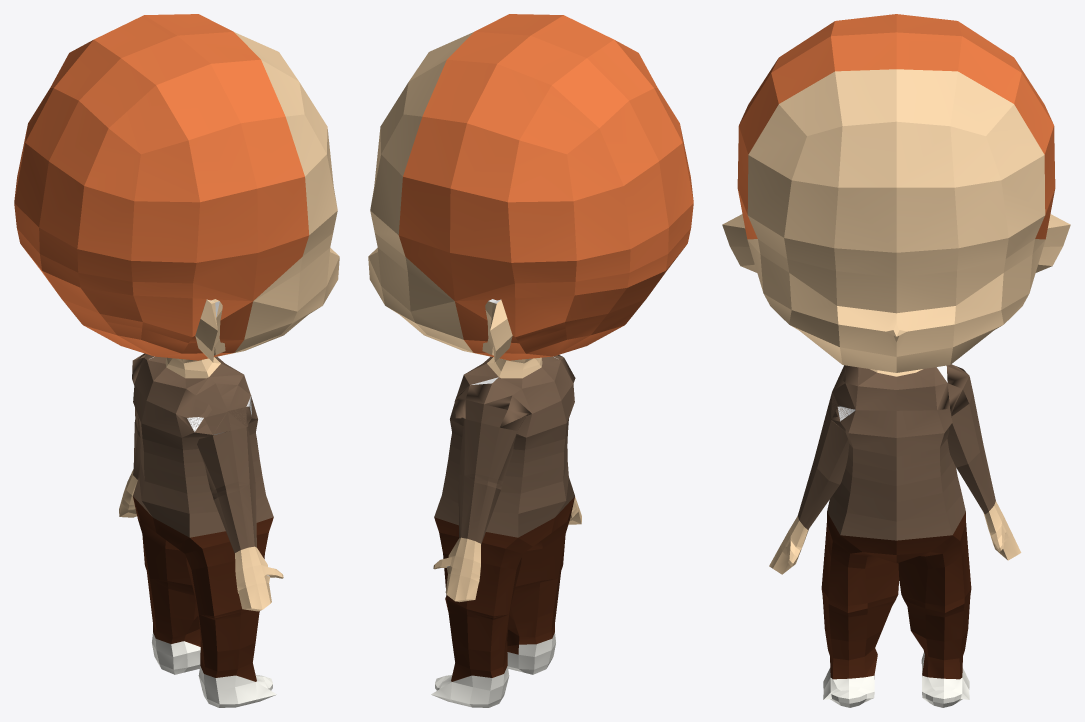
3 renders of one model, left to right at view 1: azimuth 30°, elevation 25°; view 2: azimuth 150°, elevation 25°; view 3: azimuth 270°, elevation 25°, orthographic.
Visible parts, largest first — view 1: head2; view 2: head2; view 3: head2.
Part boxes in pixels (x1,y1,x2,y2): head2: [14, 14, 339, 707]; head2: [368, 14, 693, 707]; head2: [722, 14, 1070, 707].
Size of the model in its own units: 5.95 by 12.96 by 6.35.
Materials: 6 (1 with a texture image).
